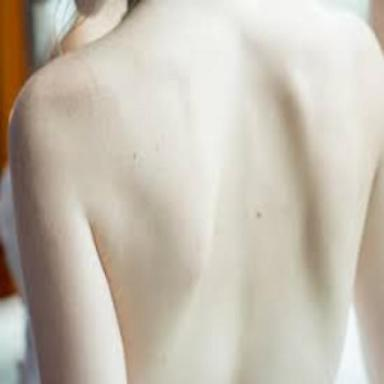normal skin: (11, 0, 384, 384)
